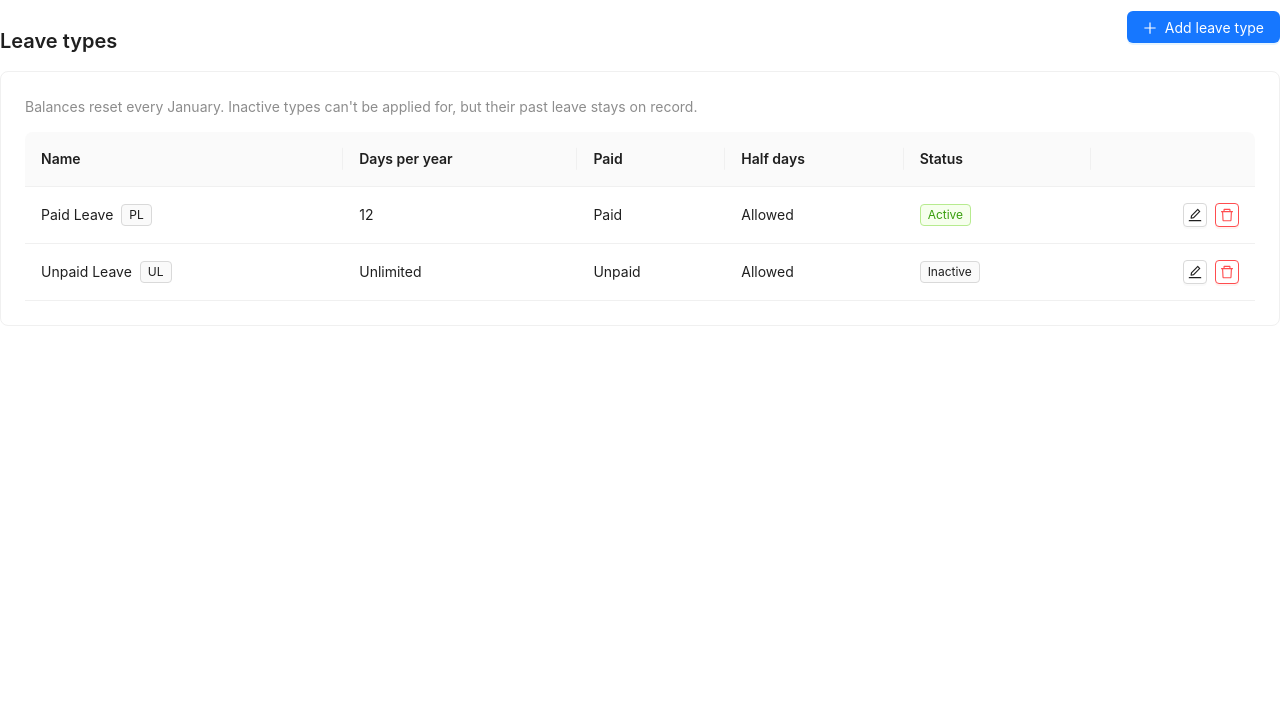
Test: LeaveTypesPage › explains why a type in use can't be deleted
expect the text "Paid Leave" is shown: met, box x1=41 y1=206 x2=113 y2=223
Click the button named "Delete Paid Leave" at point(1227, 215), box x1=1215 y1=203 x2=1239 y2=227
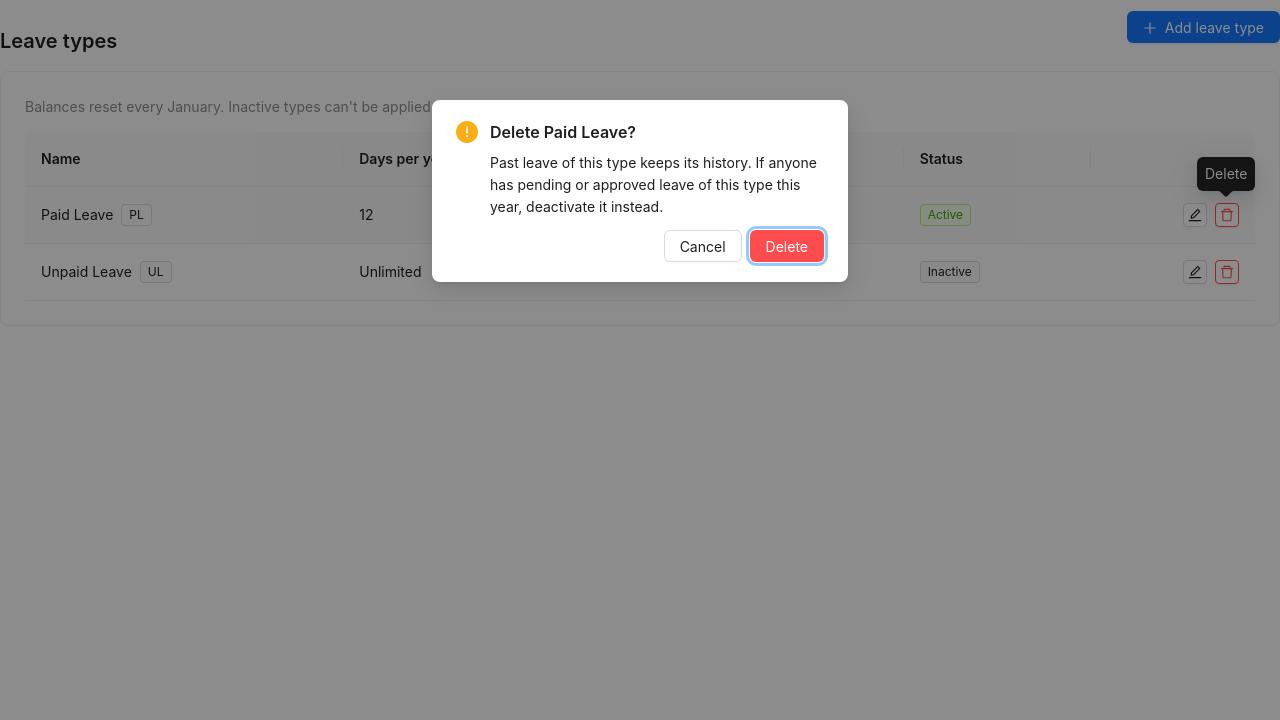
Click the button "Delete" at point(787, 246), box x1=750 y1=230 x2=824 y2=262
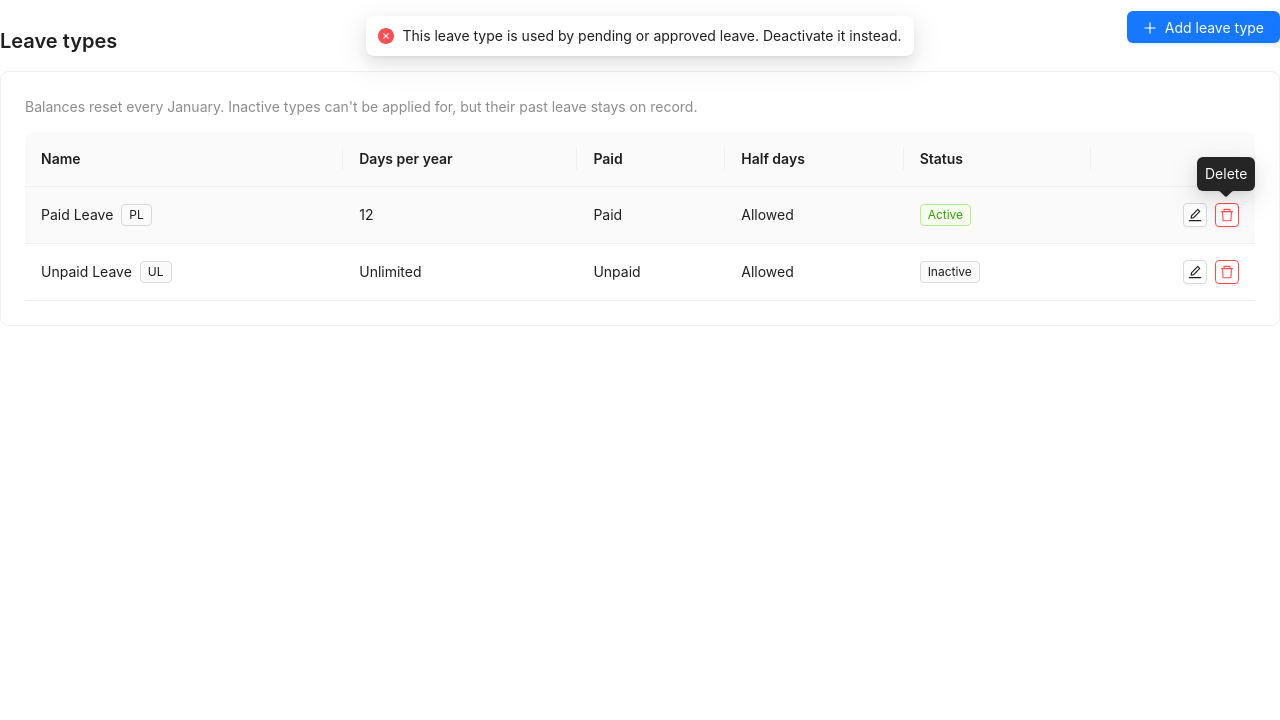
expect the text "Paid Leave" is shown: met, box x1=41 y1=206 x2=113 y2=223
expect the text "This leave type is used by pending or approved leave. Deactivate it instead." is shown: met, box x1=402 y1=25 x2=902 y2=47
